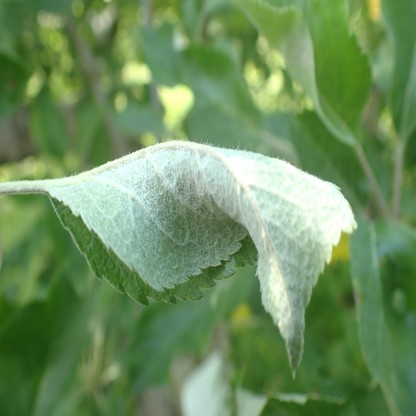powder: (47, 137, 359, 382)
